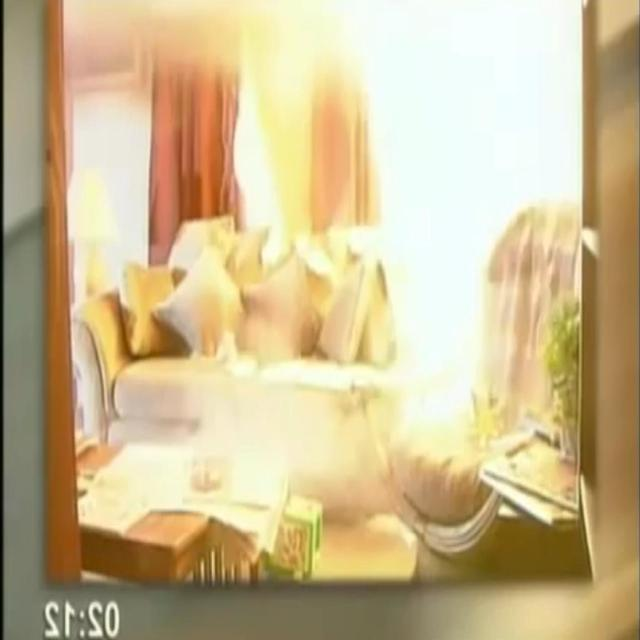fire: (64, 0, 301, 85)
smoke: (342, 0, 580, 417)
